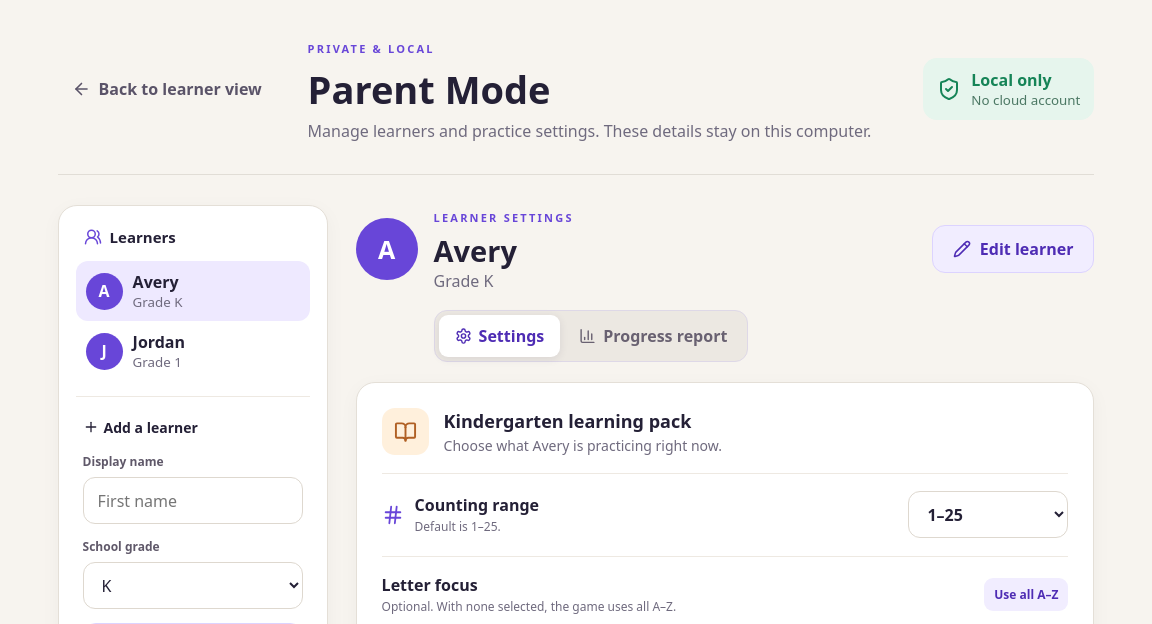
Test: Parent Mode learner editing › updates the selected learner's display name and grade without changing the selection
Click the button "J Jordan Grade 1" at [193, 351], box [76,321,310,381]
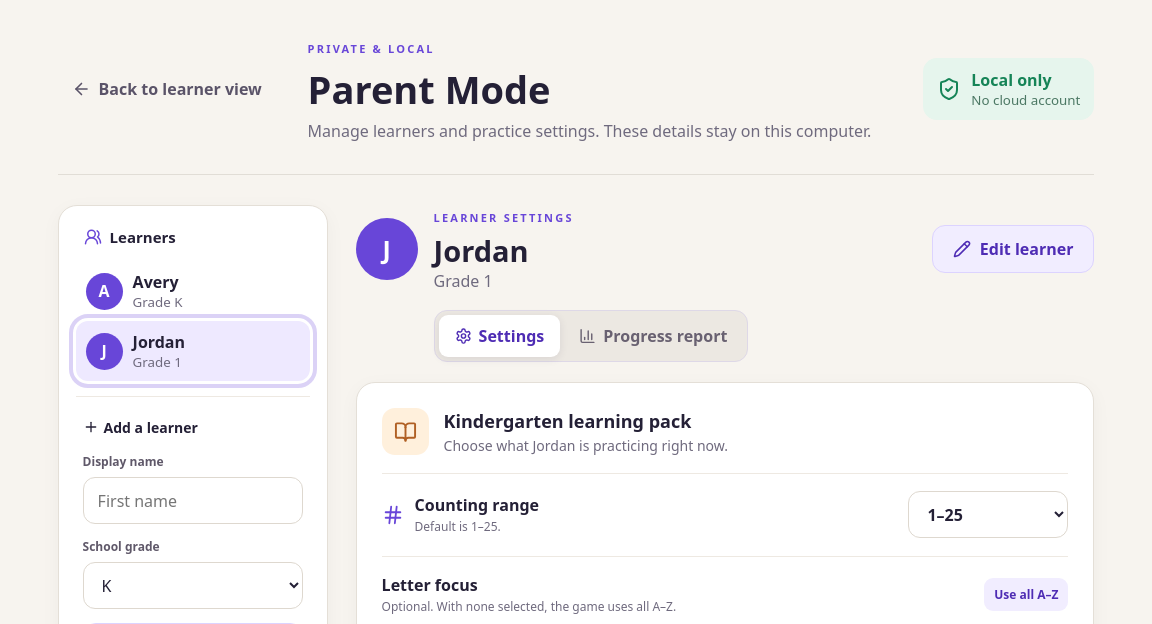
Click the button "Edit learner" at [1013, 248], box [932,224,1094,272]
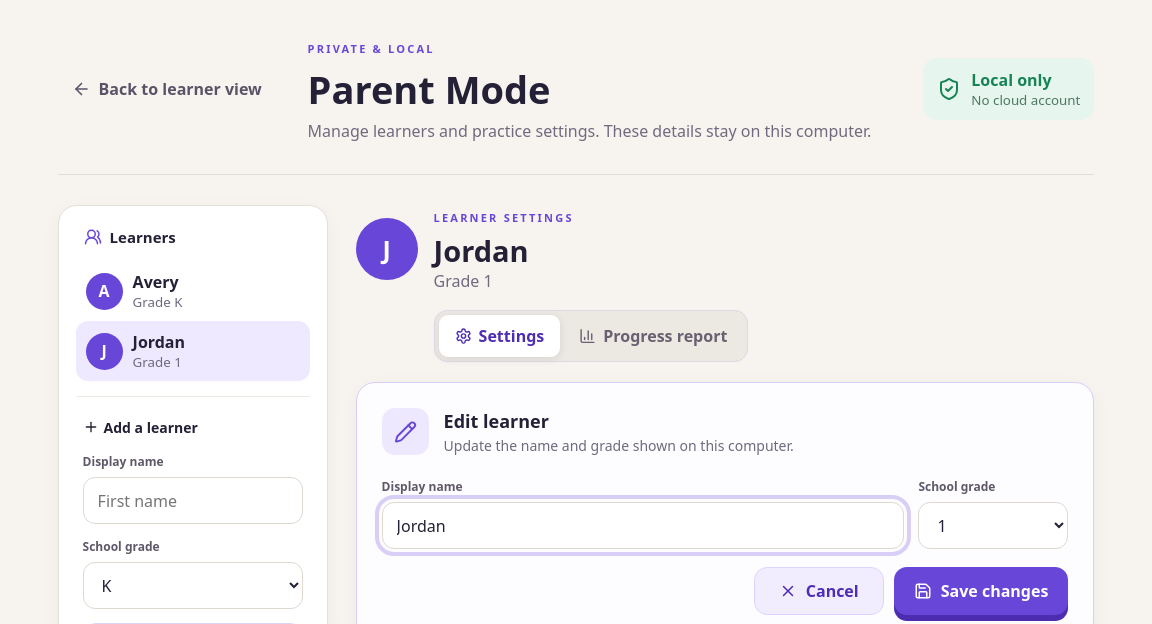
Replace the text in the field labelled "Display name" below "Edit learner" with "Jordy" at [643, 526], box [382,502,904,549]
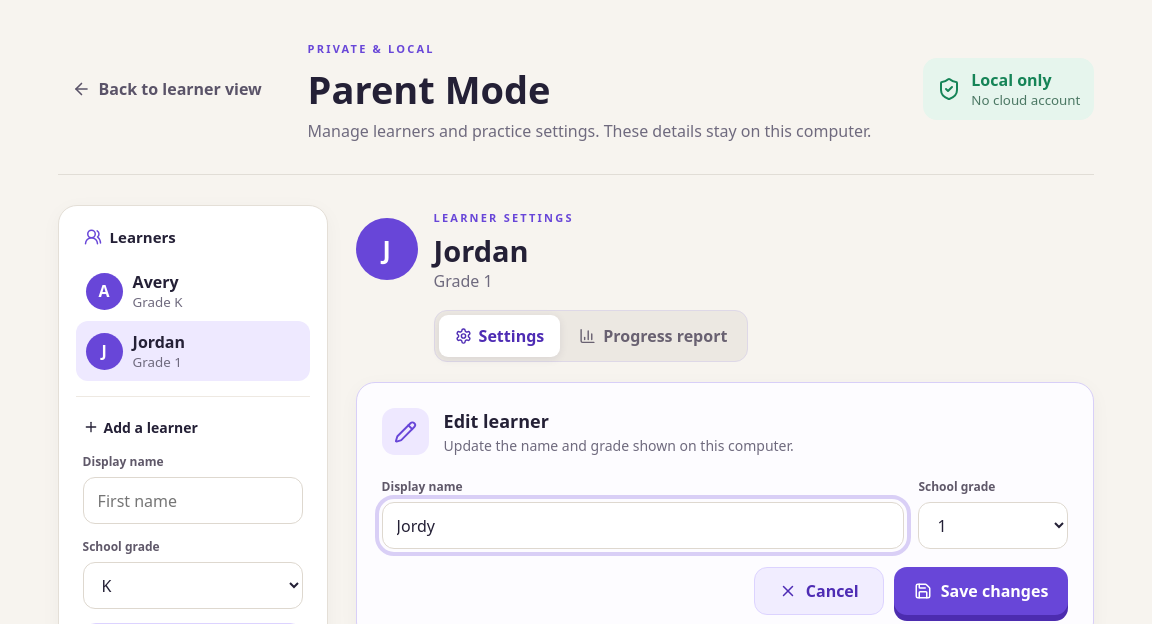
Select "K" in the 1st dropdown labelled "School grade" at [993, 526], box [918,502,1068,549]
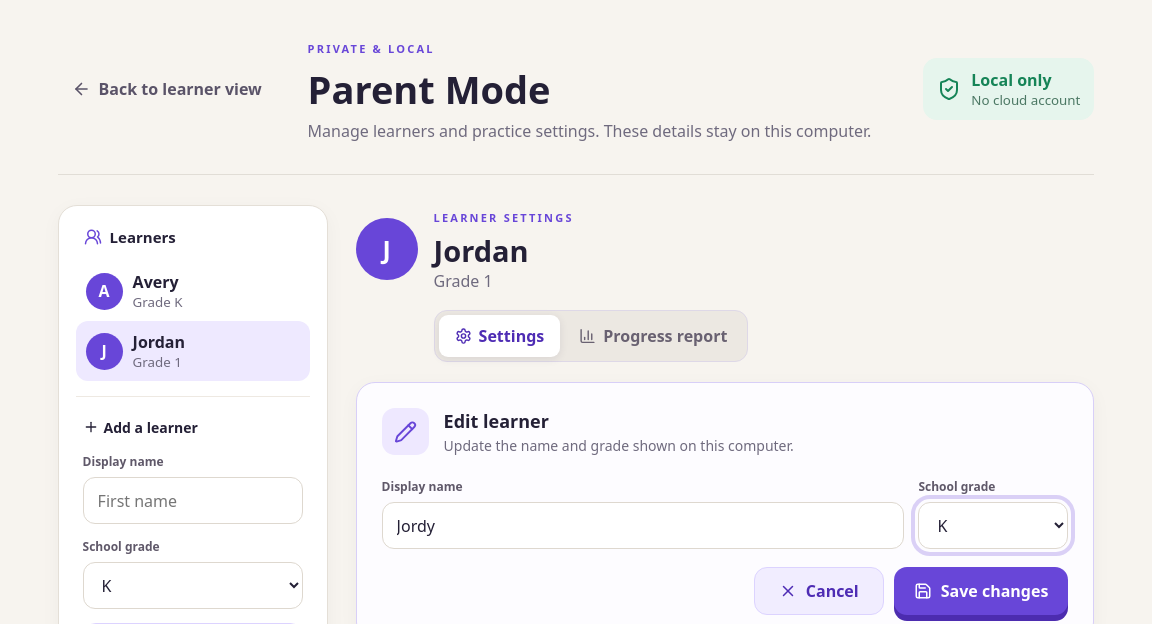
Click the button "Save changes" at [981, 591], box [894,567,1068,615]
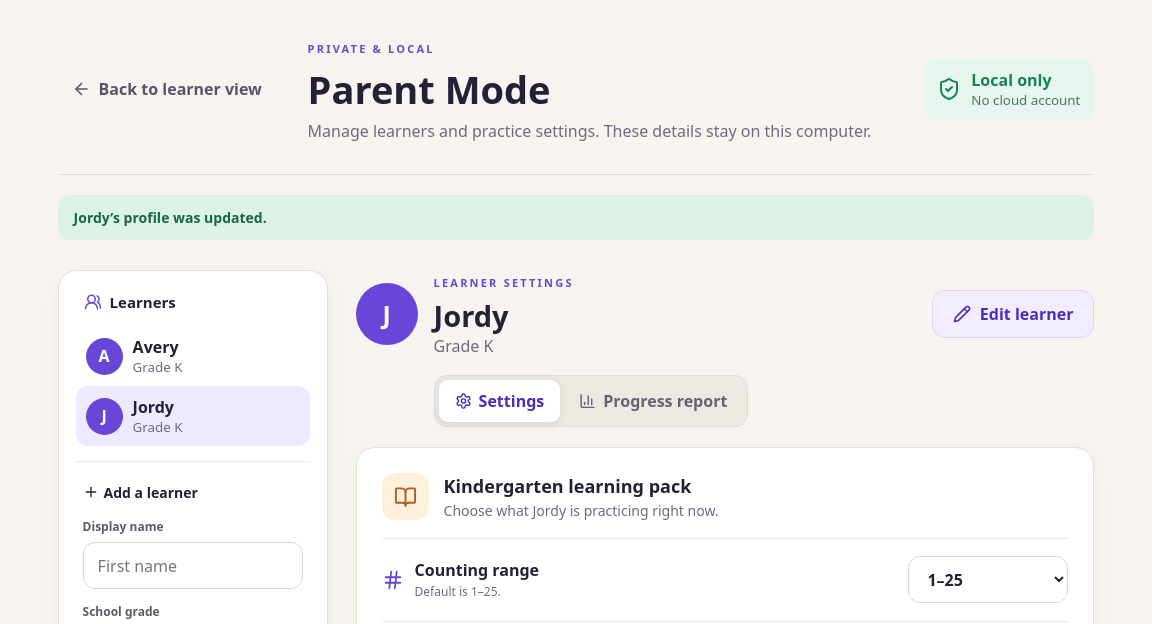
Now the heading "Jordy" is shown, box [434,296,509,335]
Now the text "Jordy’s profile was updated." is shown, box [58,195,1094,240]
